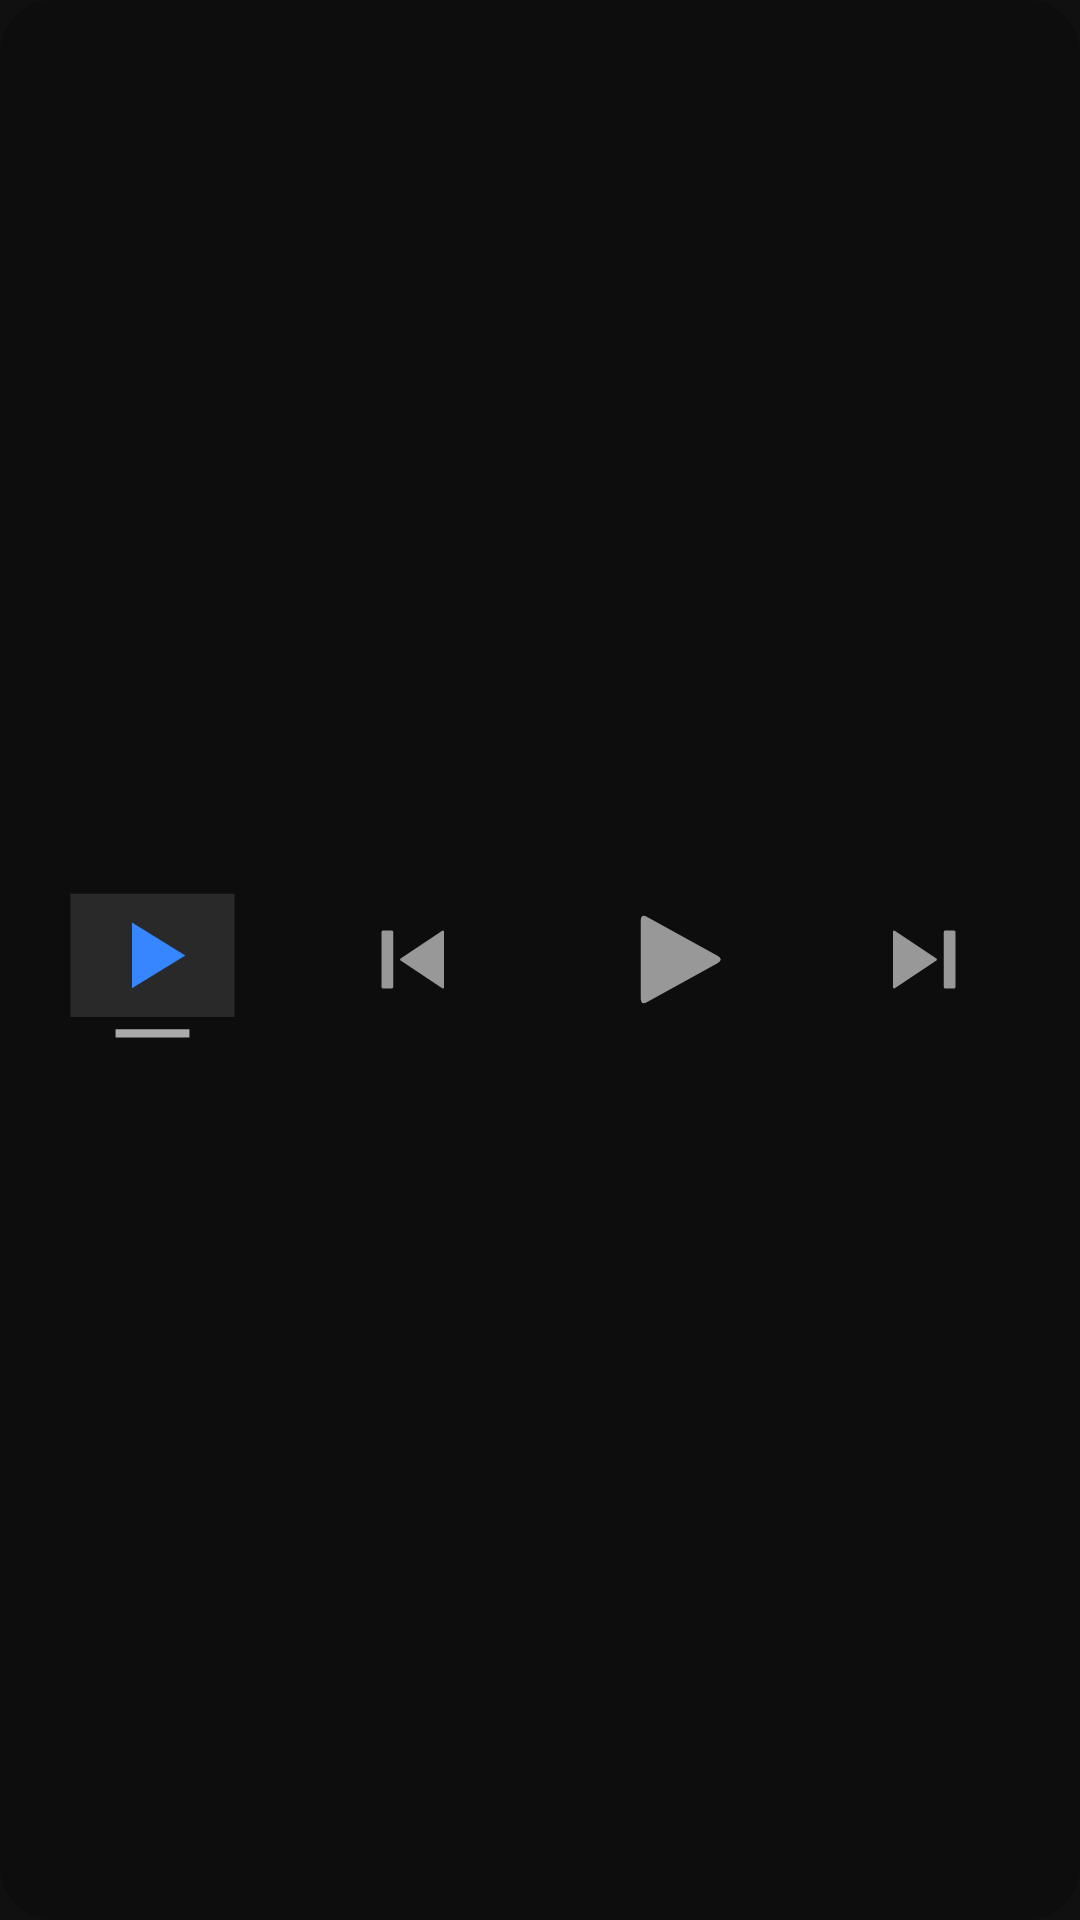

Icons on this 1080px x 1920px Android screen, each with its box as (x1, y1, x2, y2):
Afspil: (640, 915, 721, 1004)
Forrige valgte radiokanal: (381, 930, 444, 989)
Næste valgte radiokanal: (893, 930, 956, 989)
